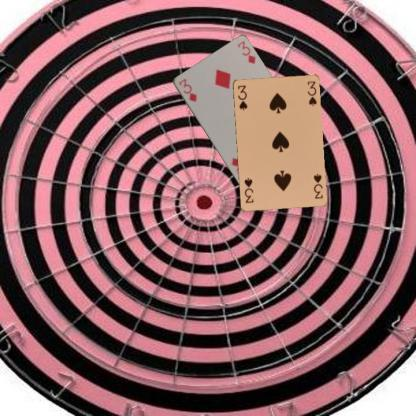3d: (176, 76, 198, 103)
3s: (234, 82, 249, 112), (311, 170, 323, 199)
